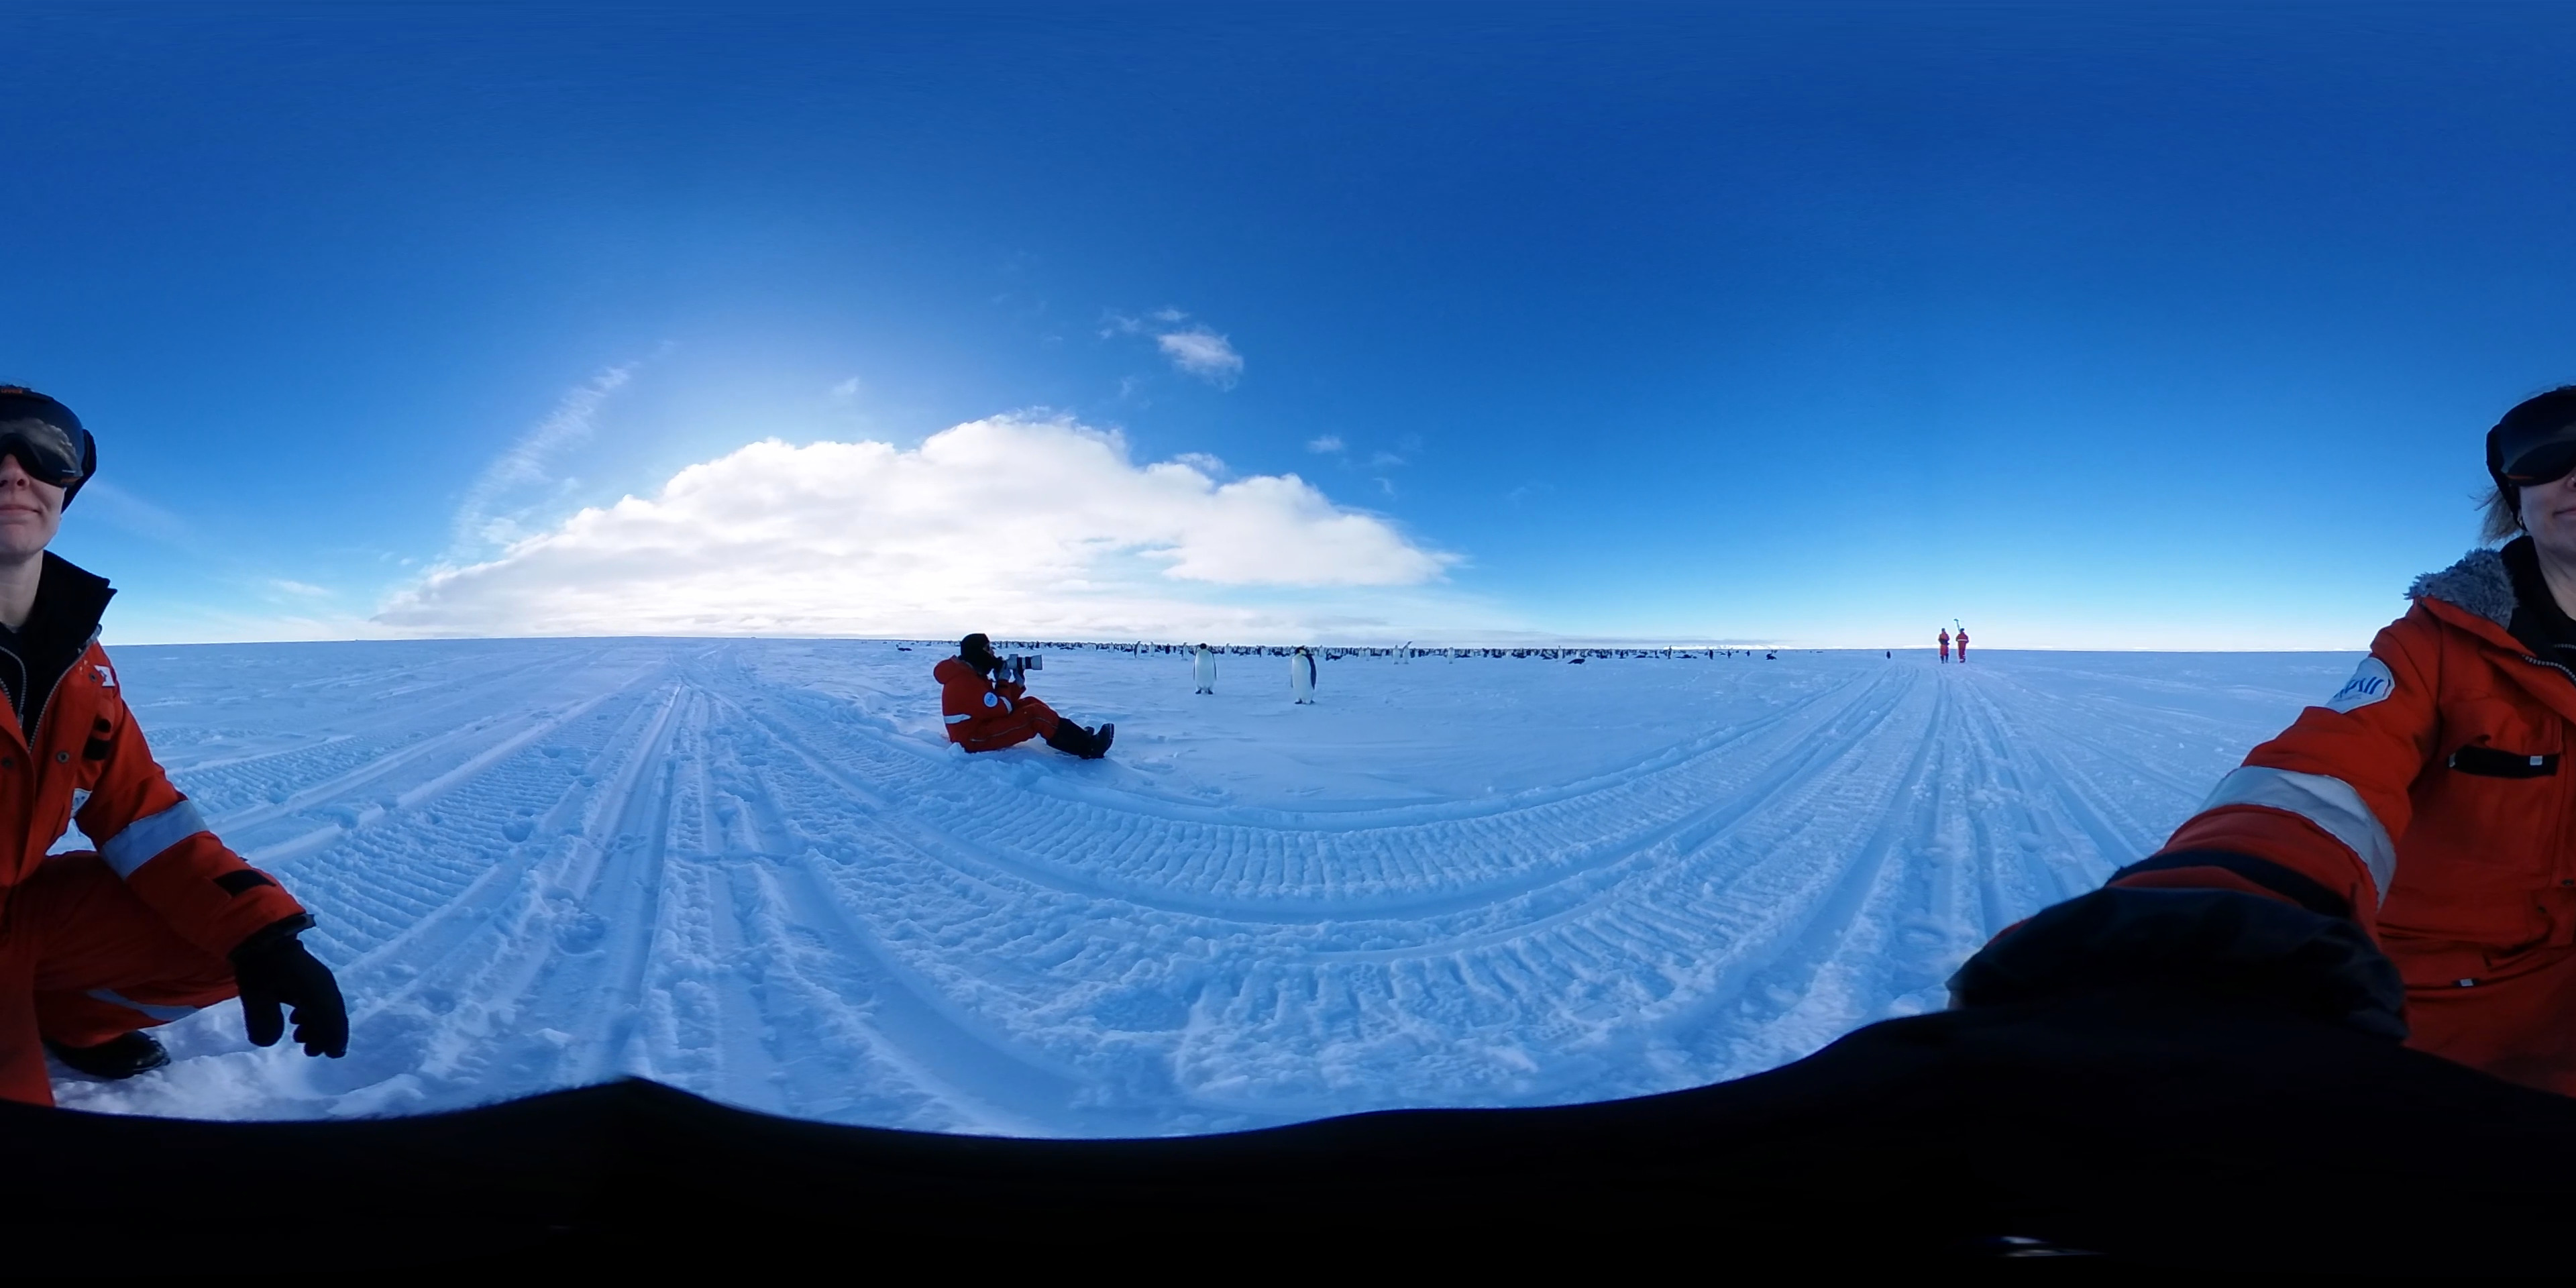adult_standing_penguin: (1189, 641, 1219, 701), (1290, 644, 1319, 705), (1388, 644, 1403, 667), (1447, 644, 1459, 665)
adult_toboggan_penguin: (1567, 655, 1589, 669)
researcher: (3, 373, 358, 1112), (930, 632, 1114, 761), (1953, 626, 1970, 665), (1935, 626, 1950, 665)
